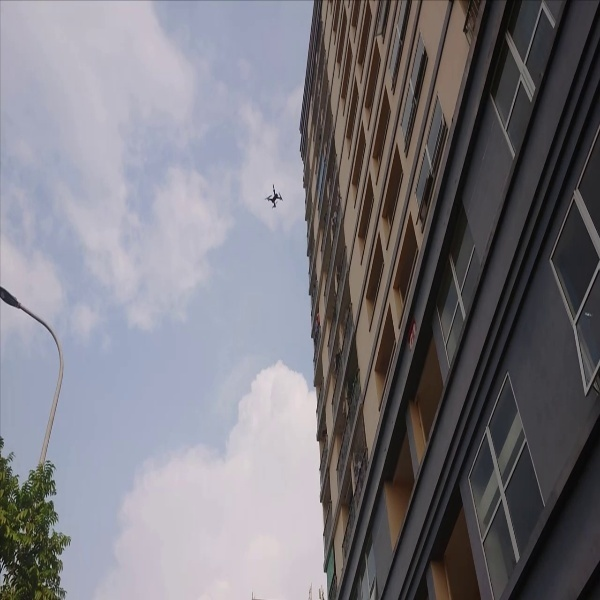drone: (264, 185, 287, 213)
